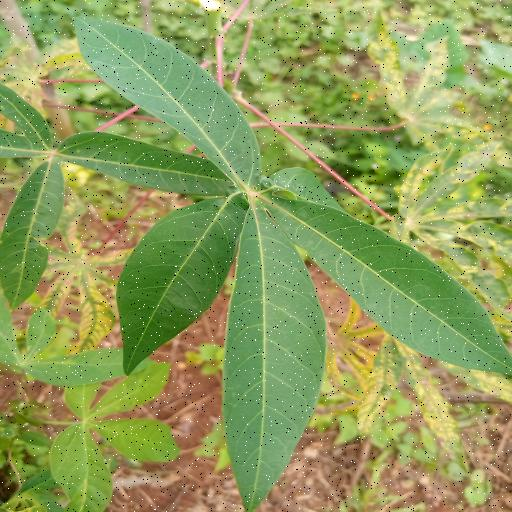Cassava_Healthy: (70, 9, 512, 498)
